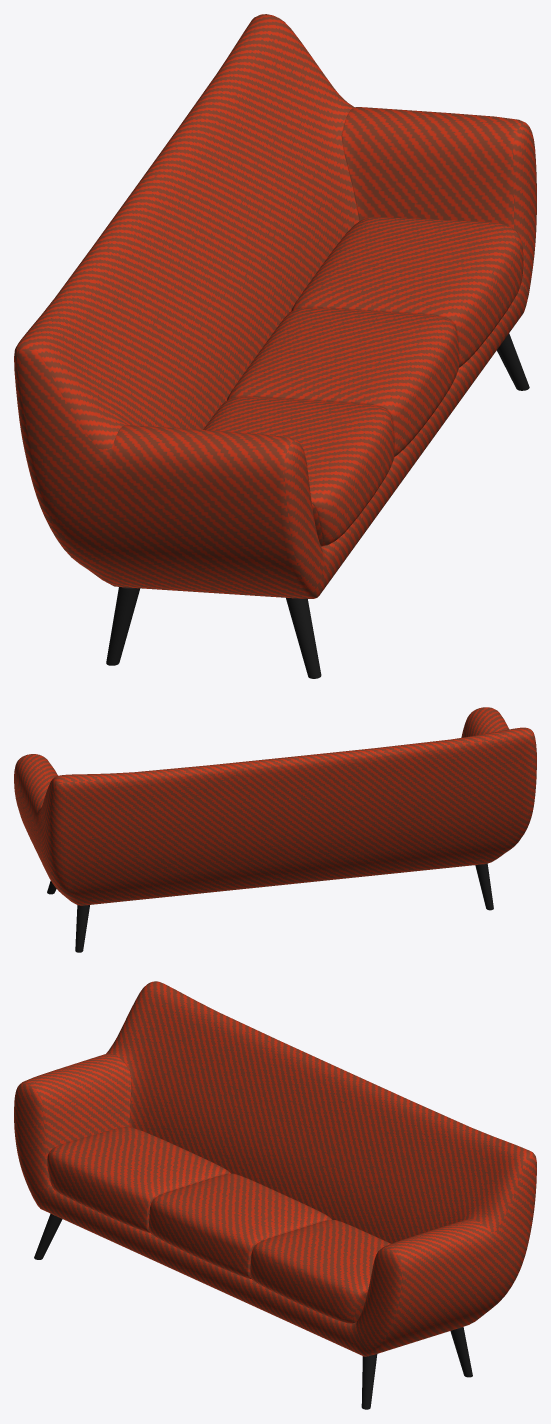
Rendered from couch_3ssg.obj.
3 views of the same model, one above another, from view 1: azimuth 30°, elevation 25°; view 2: azimuth 150°, elevation 25°; view 3: azimuth 270°, elevation 25° (orthographic). The views are drawn at different scales.
Visible parts, largest first — view 1: sofa_mesh_n3d, pillow_003_mesh_n3d, pillow_001_mesh_n3d, pillow_002_mesh_n3d, base_003_mesh_n3d, base_004_mesh_n3d, base_001_mesh_n3d; view 2: sofa_mesh_n3d, base_002_mesh_n3d, base_004_mesh_n3d; view 3: sofa_mesh_n3d, pillow_002_mesh_n3d, pillow_001_mesh_n3d, pillow_003_mesh_n3d, base_001_mesh_n3d, base_002_mesh_n3d, base_003_mesh_n3d.
Part boxes in pixels (x1,y1,x2,y2): sofa_mesh_n3d: (14,14,536,598); pillow_003_mesh_n3d: (291,217,523,367); pillow_001_mesh_n3d: (227,308,459,456); pillow_002_mesh_n3d: (203,397,394,546); base_003_mesh_n3d: (286,598,321,678); base_004_mesh_n3d: (106,587,140,665); base_001_mesh_n3d: (497,333,529,390); sofa_mesh_n3d: (14,707,536,905); base_002_mesh_n3d: (75,905,89,952); base_004_mesh_n3d: (475,863,493,910); sofa_mesh_n3d: (14,981,536,1356); pillow_002_mesh_n3d: (47,1127,230,1232); pillow_001_mesh_n3d: (149,1173,331,1278); pillow_003_mesh_n3d: (250,1219,390,1323); base_001_mesh_n3d: (361,1354,377,1409); base_002_mesh_n3d: (450,1327,472,1377); base_003_mesh_n3d: (34,1213,62,1259).
Bounding box in the file's own units: 40.32 × 18.41 × 39.12.
2 materials, 1 textured.
